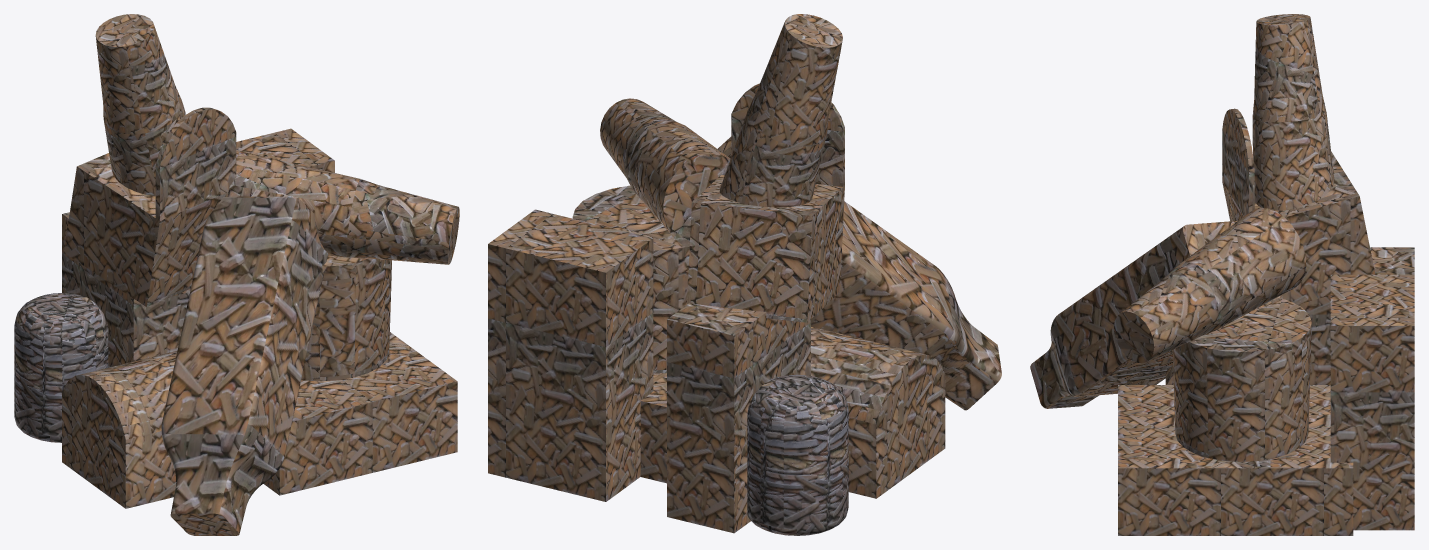
File: preview.glb
3 renders of one model, left to right at view 1: azimuth 30°, elevation 25°; view 2: azimuth 150°, elevation 25°; view 3: azimuth 270°, elevation 25°, orthographic. The views are drawn at different scales.
Visible parts, largest first — view 1: Material2 (×2); view 2: Material2 (×2); view 3: Material2.
Part boxes in pixels (bbox=[...]): Material2 (×2): bbox=[14, 14, 459, 535]; Material2 (×2): bbox=[488, 14, 1001, 535]; Material2: bbox=[1030, 14, 1414, 535].
Bounding box in the file's own units: 140 × 173 × 147.
Materials: 2 (2 with a texture image).
